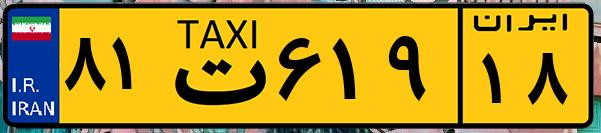1: (330, 28, 385, 110), (475, 38, 525, 113), (110, 28, 158, 98)
6: (270, 28, 330, 110)
8: (57, 26, 110, 100), (525, 38, 570, 115)
9: (385, 28, 445, 110)
ت: (158, 12, 270, 120)
